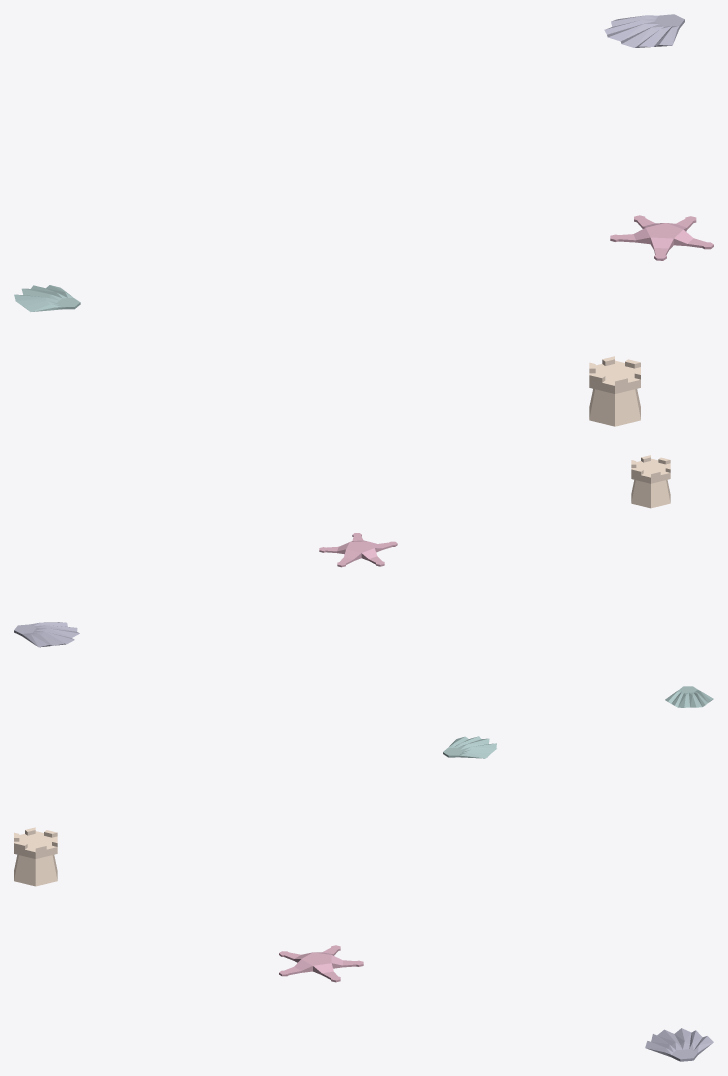
Rendered from SeaFauna.fbx.
3 views of the same model, one above another, from view 1: azimuth 30°, elevation 25°; view 2: azimuth 150°, elevation 25°; view 3: azimuth 270°, elevation 25° (orthographic). The views are drawn at different scales.
Visible parts, largest first — view 1: SeaFauna; view 2: SeaFauna; view 3: SeaFauna.
Boxes of the visible parts, <box> form: SeaFauna: <box>14,14,713,426</box>; SeaFauna: <box>14,455,713,707</box>; SeaFauna: <box>14,736,713,1061</box>.
Bounding box in the file's own units: 3.65 × 0.2 × 3.34.
